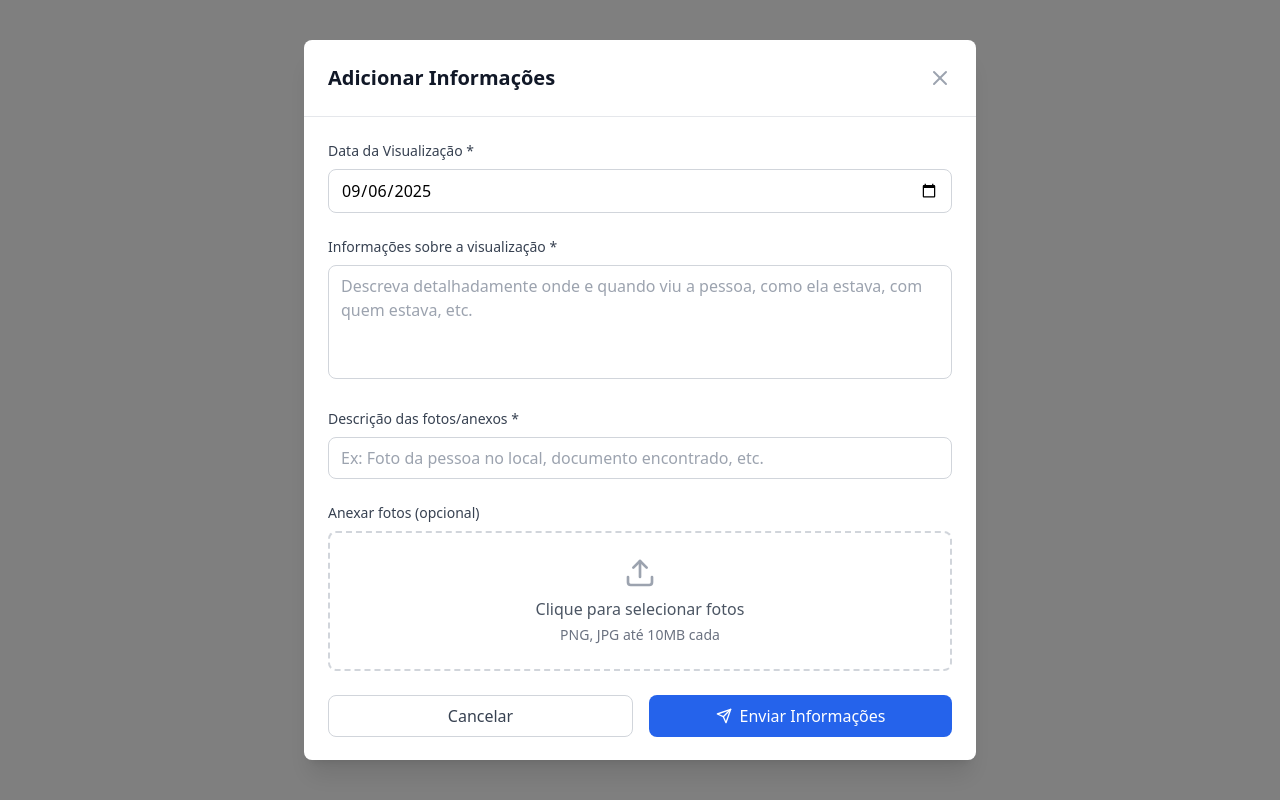
Test: InformationForm › should show validation errors for empty required fields
Click the button "Enviar Informações" at (800, 716), box top-left (649, 695), bottom-right (952, 737)
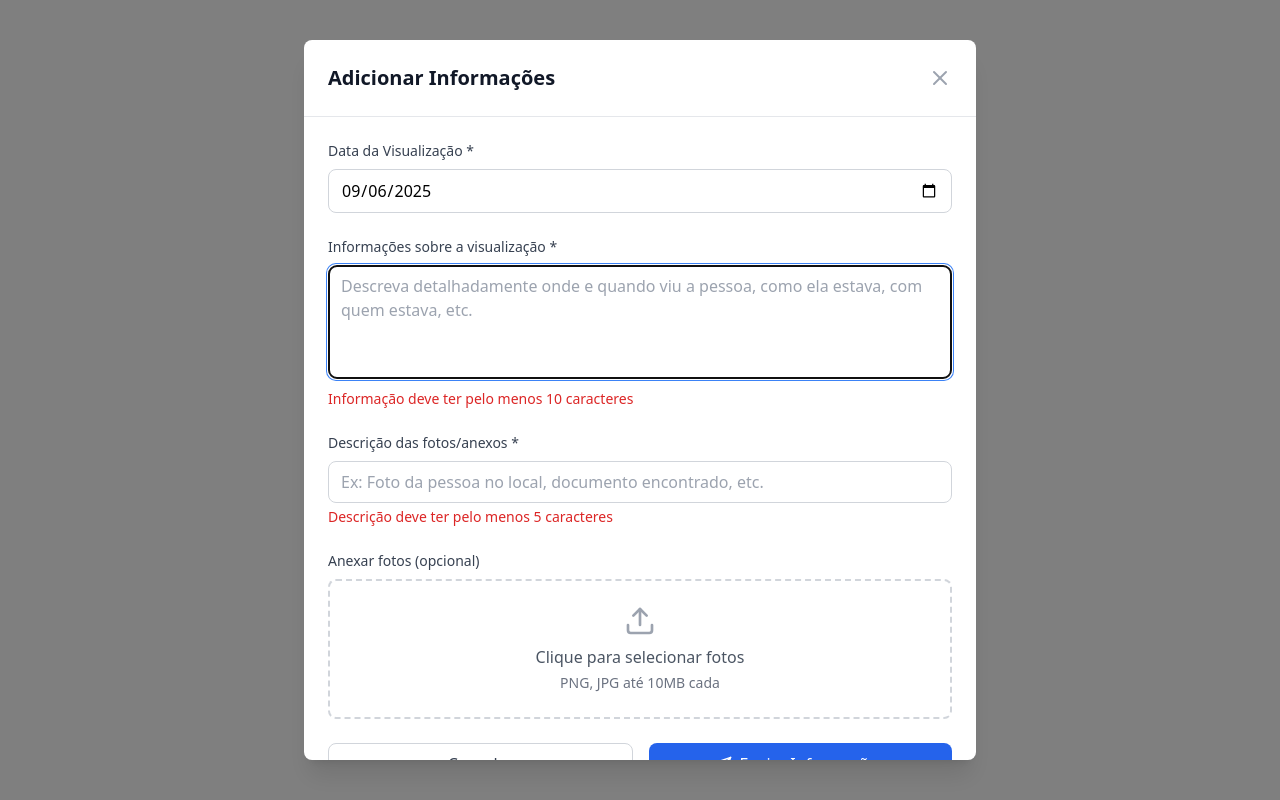
Now the text "Informação deve ter pelo menos 10 caracteres" is shown, box top-left (328, 389), bottom-right (633, 408)
Now the text "Descrição deve ter pelo menos 5 caracteres" is shown, box top-left (328, 507), bottom-right (613, 526)
